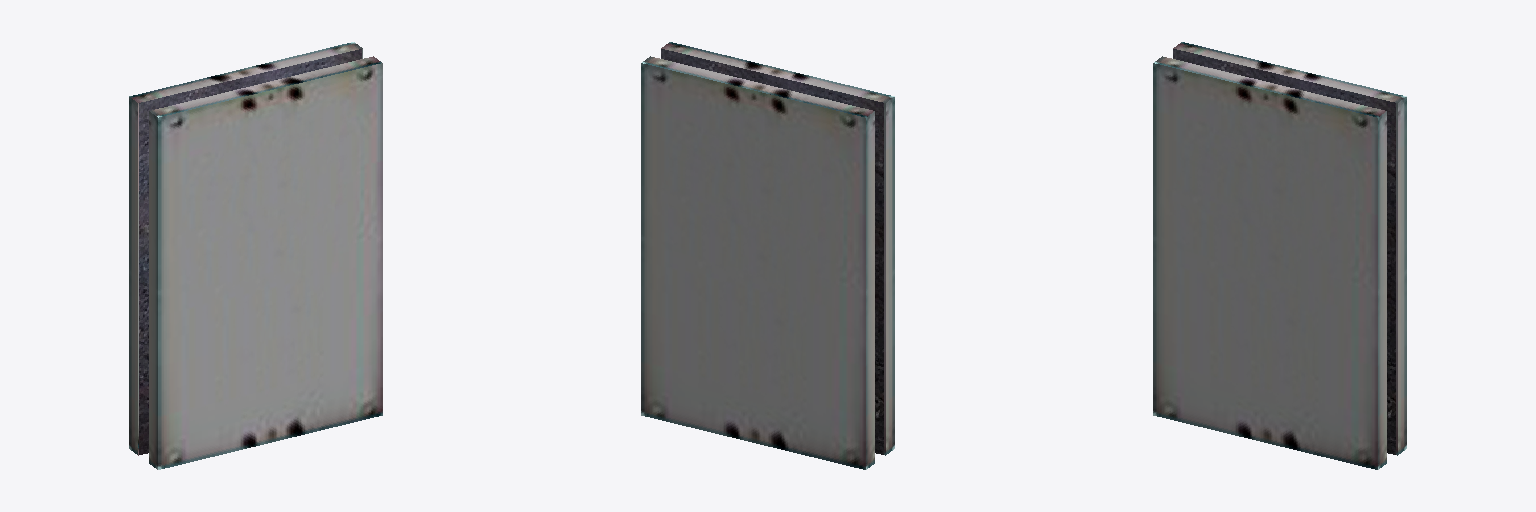
3 views of the same model, side by side, from view 1: azimuth 30°, elevation 25°; view 2: azimuth 150°, elevation 25°; view 3: azimuth 330°, elevation 25° (orthographic).
Visible parts, largest first — view 1: Cube_Cube.001, Cube.001_Cube.000; view 2: Cube.001_Cube.000, Cube_Cube.001; view 3: Cube_Cube.001, Cube.001_Cube.000.
Part boxes in pixels (x1,y1,x2,y2): Cube_Cube.001: (149,56,382,469); Cube.001_Cube.000: (129,42,362,455); Cube.001_Cube.000: (641,56,874,469); Cube_Cube.001: (661,42,894,455); Cube_Cube.001: (1153,56,1386,469); Cube.001_Cube.000: (1173,42,1406,455).
Bounding box in the file's own units: 0.6 × 0.9 × 0.1341.
1 materials, 1 textured.